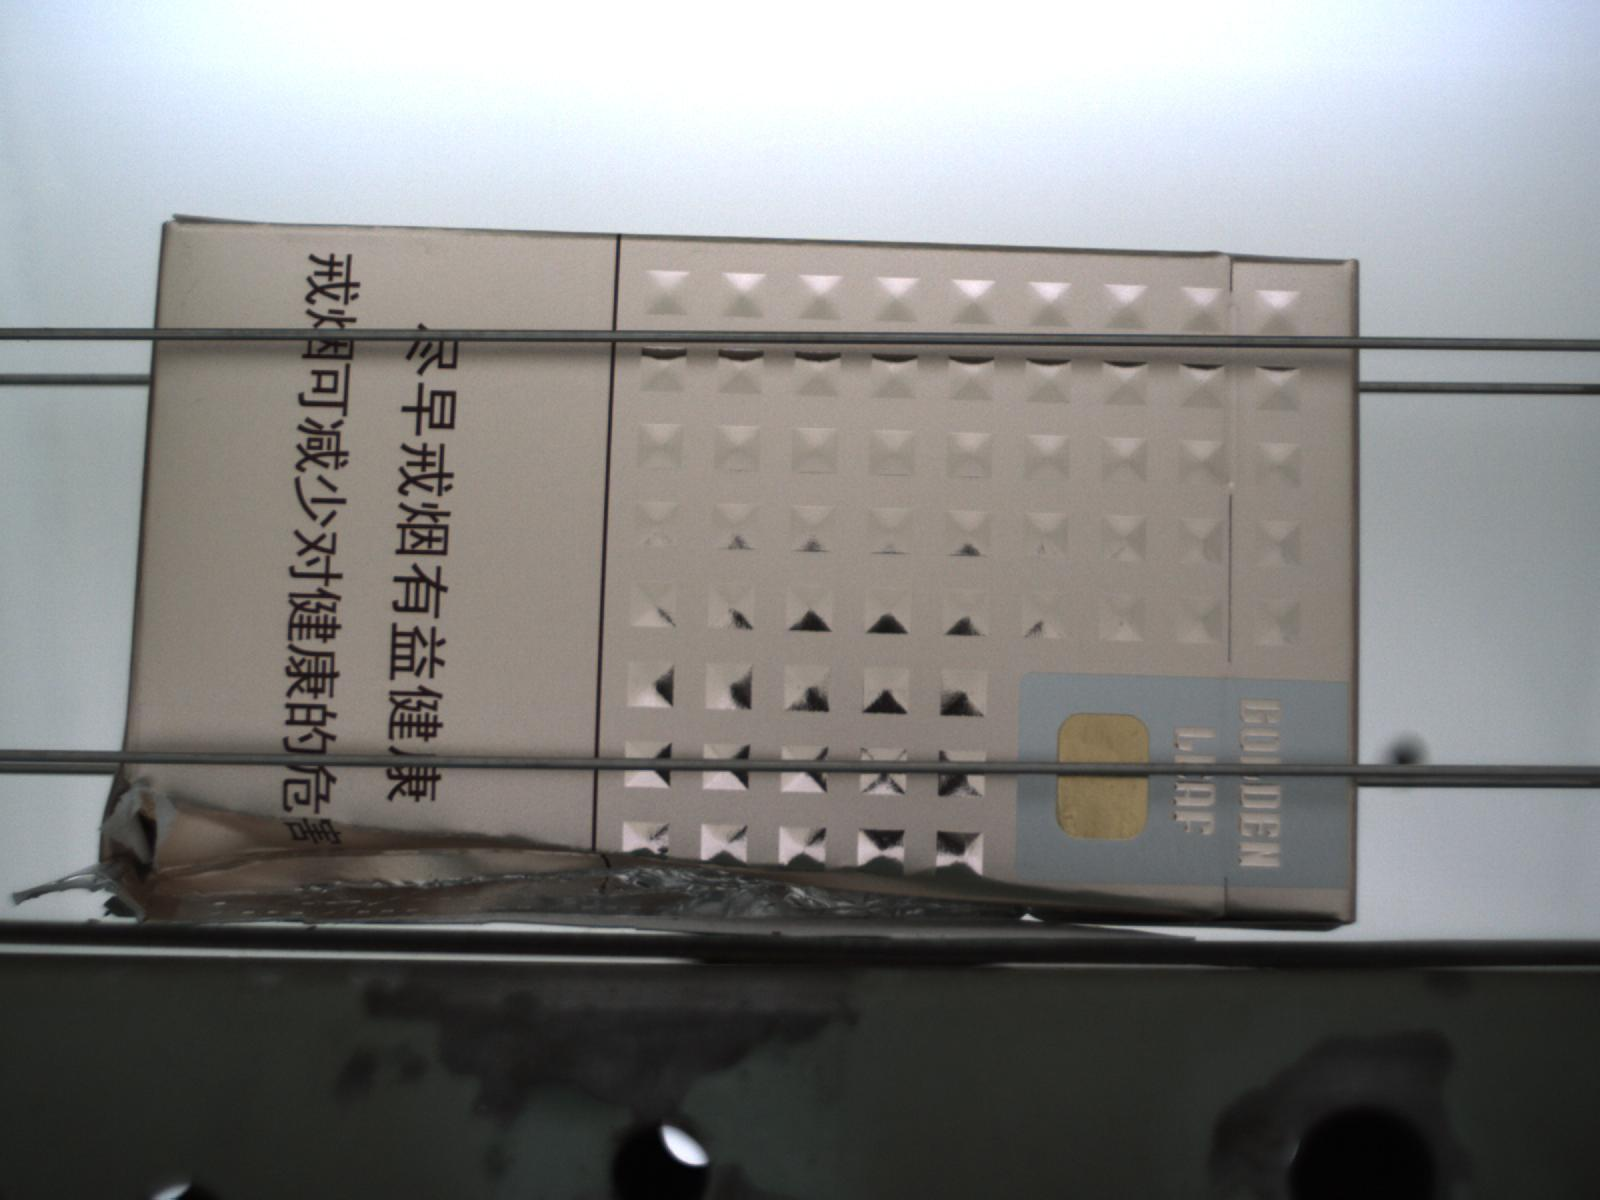dirtyScratch: (42, 764, 1180, 940)
